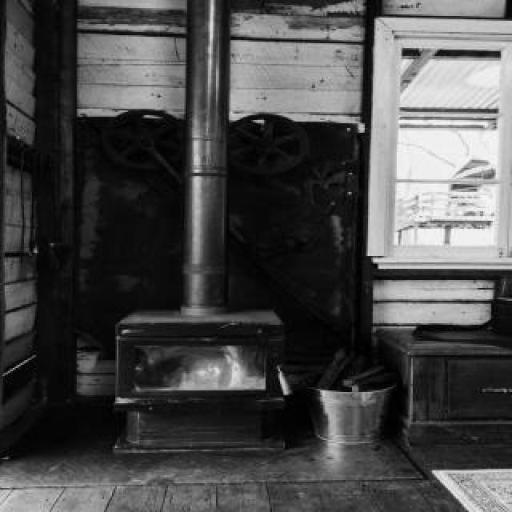smoke: (152, 338, 270, 394)
